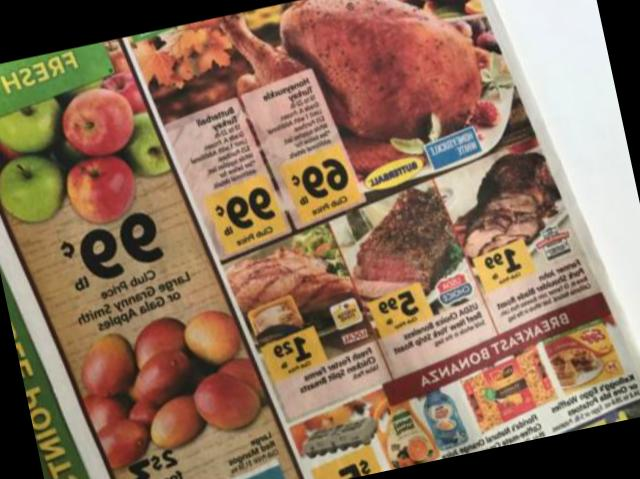cardboard paper: (126, 0, 640, 479), (0, 38, 301, 479)
